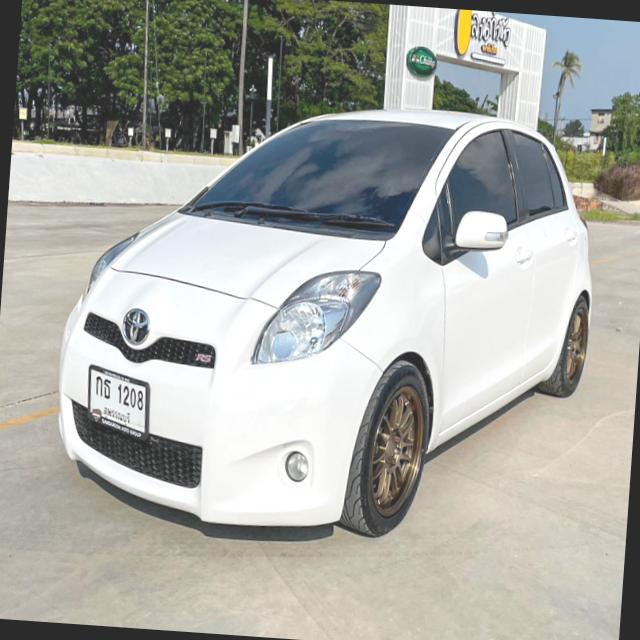license_plate: (76, 358, 162, 448)
